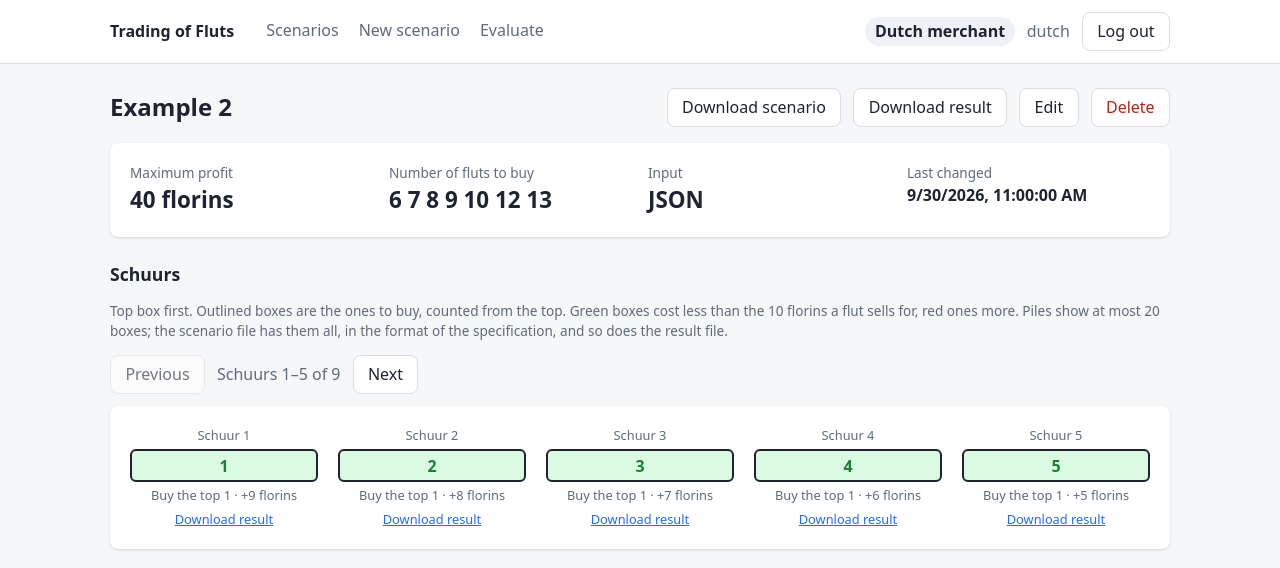
it: ScenarioDetailPage › shows five schuurs per page
Check: the text "Schuurs 1–5 of 9" is shown, box x1=217 y1=362 x2=341 y2=386
Check: the button "Previous" is disabled, box x1=110 y1=355 x2=205 y2=394
Click the button "Next" at point(385, 374), box x1=352 y1=355 x2=418 y2=394
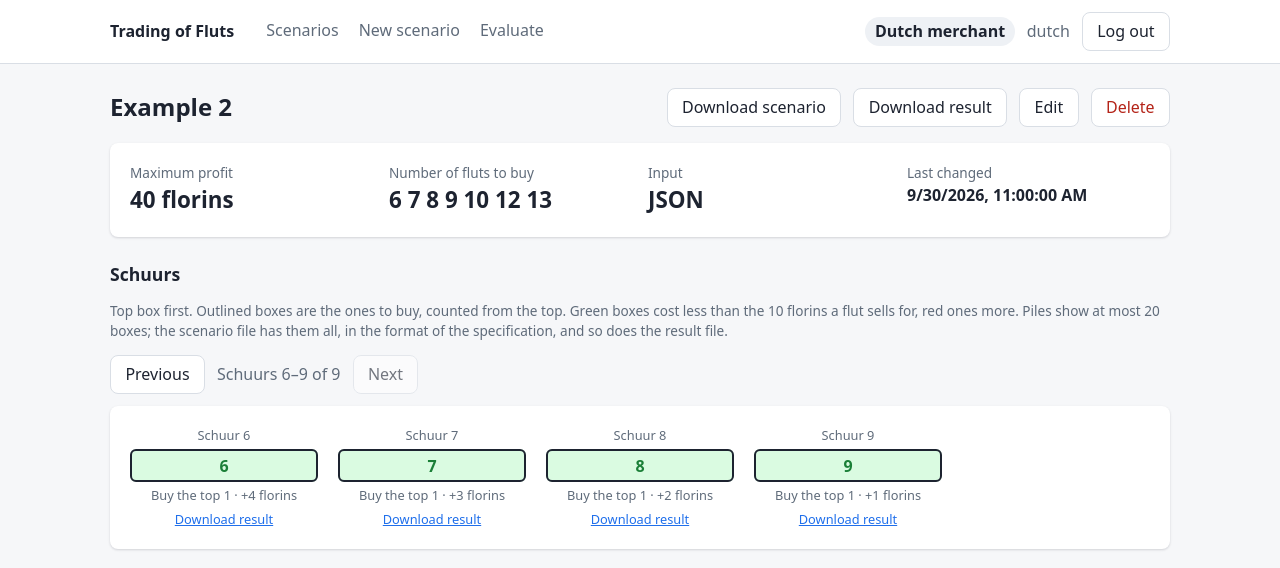
Check: the text "Schuurs 6–9 of 9" is shown, box x1=217 y1=362 x2=341 y2=386
Check: the element "Schuur 9" is shown, box x1=843 y1=455 x2=853 y2=477
Check: the button "Next" is disabled, box x1=352 y1=355 x2=418 y2=394
Click the button "Previous" at point(158, 374), box x1=110 y1=355 x2=205 y2=394
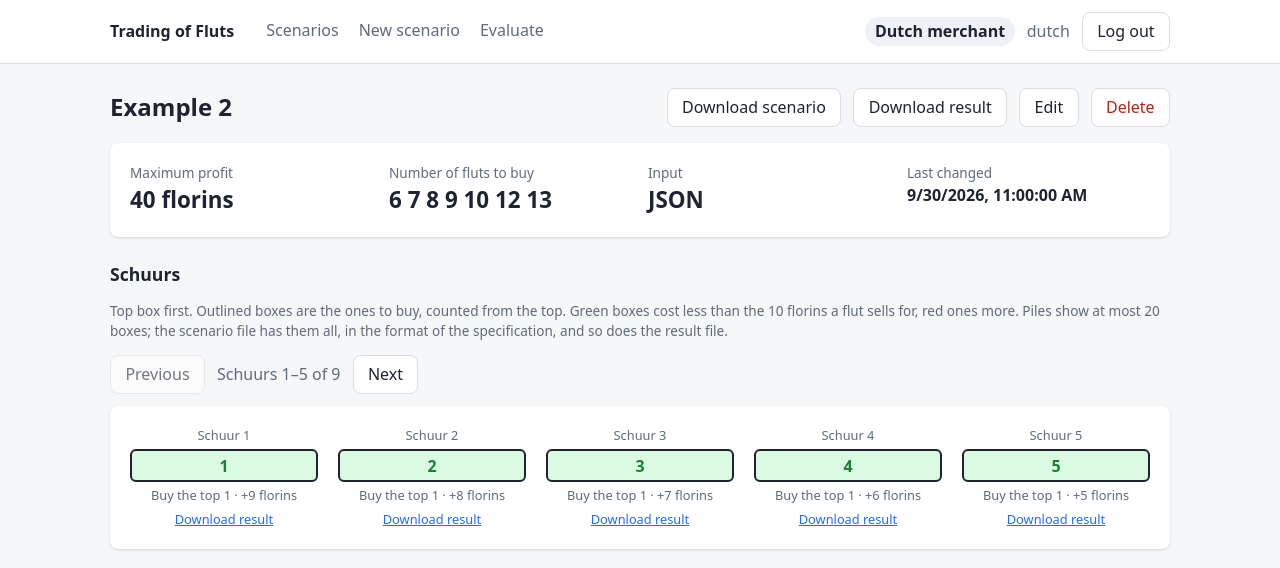
Check: the text "Schuurs 1–5 of 9" is shown, box x1=217 y1=362 x2=341 y2=386
